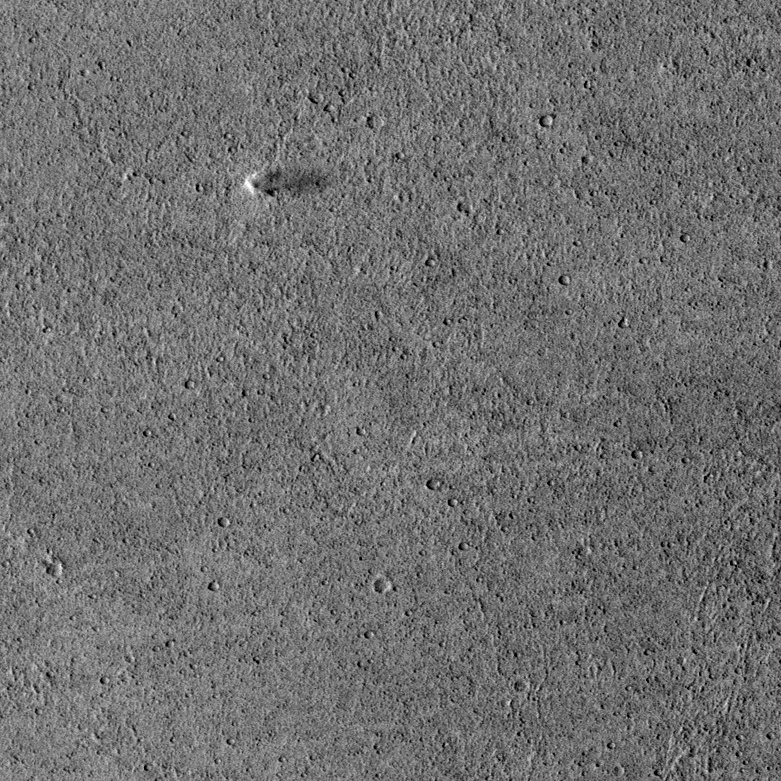dust_devil: (241, 168, 329, 199)
